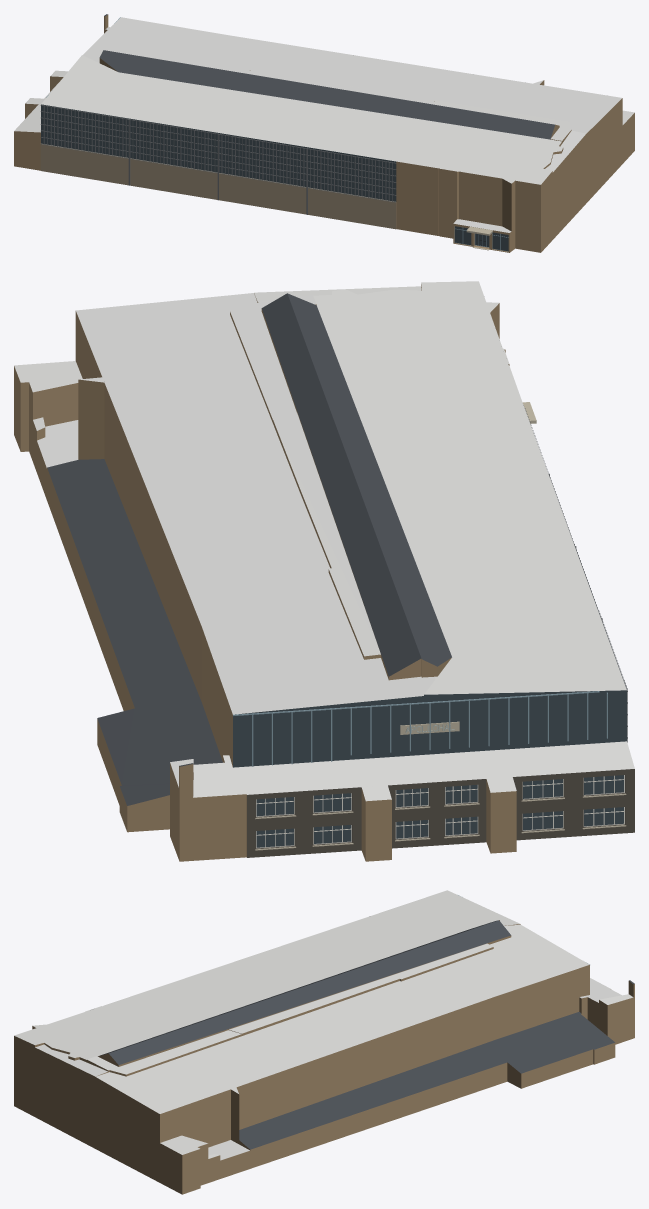
The model's file is recipe-large-apollolaan-4-134507.glb.
3 renders of one model, top to bottom at view 1: azimuth 30°, elevation 25°; view 2: azimuth 150°, elevation 25°; view 3: azimuth 270°, elevation 25°, orthographic. The views are drawn at different scales.
Parts seen in each view (by area): view 1: apollolaan-4-134507; view 2: apollolaan-4-134507; view 3: apollolaan-4-134507.
Part boxes in pixels (x1,y1,x2,y2): apollolaan-4-134507: (14, 14, 634, 252); apollolaan-4-134507: (14, 281, 634, 861); apollolaan-4-134507: (14, 890, 634, 1194).
Bounding box in the file's own units: 90.4 × 14.47 × 97.4.
